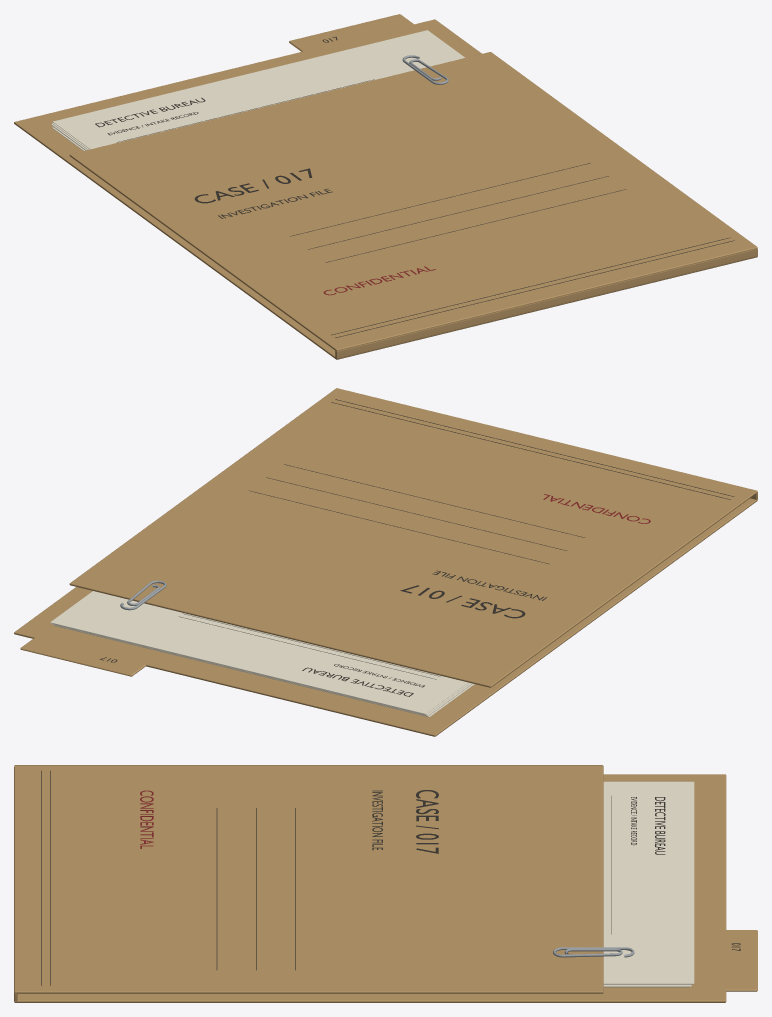
File: CaseFiles.fbx
3 views of the same model, one above another, from view 1: azimuth 30°, elevation 25°; view 2: azimuth 150°, elevation 25°; view 3: azimuth 270°, elevation 25° (orthographic). The views are drawn at different scales.
Parts seen in each view (by area): view 1: Folder_FrontCover, Paper_Layer_06, Folder_BackCover, Folder_SpineFold, Folder_IndexTab; view 2: Folder_FrontCover, Paper_Layer_06, Folder_BackCover, Folder_IndexTab; view 3: Folder_FrontCover, Paper_Layer_06, Folder_BackCover, Folder_IndexTab, PaperClip_Steel, Cover_CaseNumber, Cover_Confidential.
Part boxes in pixels (x1,y1,x2,y2): Folder_FrontCover: [69, 52, 757, 351]; Paper_Layer_06: [53, 30, 465, 149]; Folder_BackCover: [14, 19, 757, 359]; Folder_SpineFold: [335, 248, 757, 358]; Folder_IndexTab: [289, 14, 415, 52]; Folder_FrontCover: [69, 388, 757, 687]; Paper_Layer_06: [50, 591, 467, 713]; Folder_BackCover: [14, 498, 757, 736]; Folder_IndexTab: [20, 637, 145, 676]; Folder_FrontCover: [14, 765, 603, 993]; Paper_Layer_06: [603, 781, 694, 983]; Folder_BackCover: [14, 774, 726, 1002]; Folder_IndexTab: [725, 930, 757, 991]; PaperClip_Steel: [553, 947, 634, 957]; Cover_CaseNumber: [416, 790, 438, 853]; Cover_Confidential: [140, 790, 153, 848].
Size of the model in its own units: 24.5 by 0.735 by 33.96.
